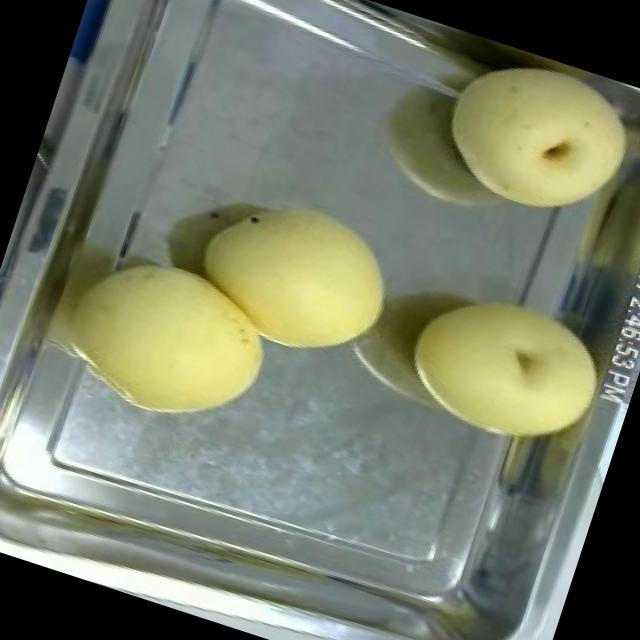Fruit: (45, 228, 295, 452), (177, 170, 414, 381), (387, 263, 626, 472), (416, 31, 640, 246)
